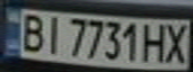1: (121, 20, 142, 62)
3: (103, 18, 124, 61)
7: (63, 15, 87, 57), (84, 16, 106, 60)
B: (15, 10, 48, 53)
H: (139, 20, 169, 64)
I: (39, 12, 66, 55)
X: (163, 20, 193, 64)
